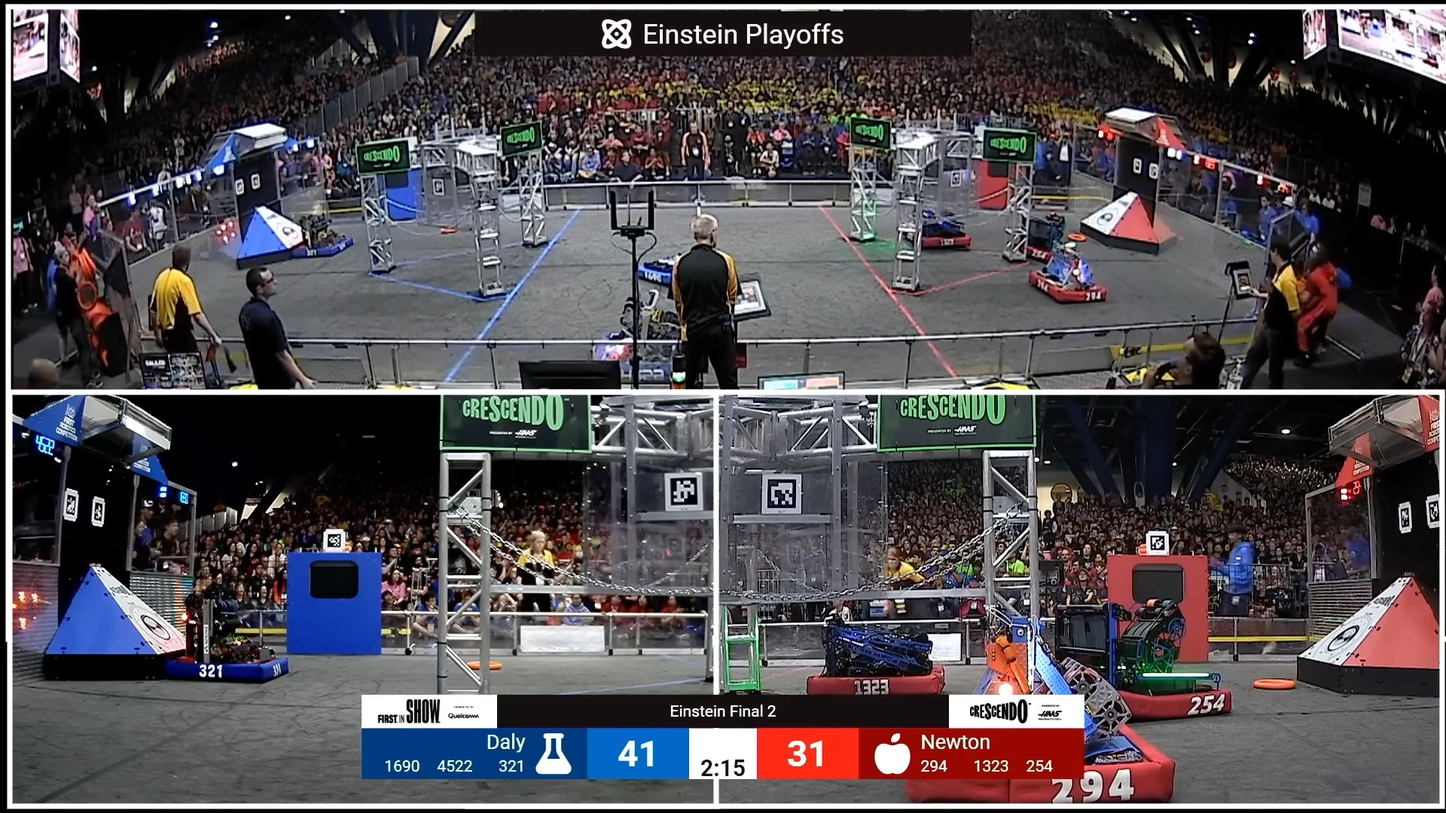bumpers: (894, 711, 1179, 805), (1088, 672, 1236, 729), (157, 652, 296, 690), (801, 659, 954, 693), (1022, 263, 1114, 308), (895, 220, 977, 255), (636, 258, 709, 289), (290, 236, 361, 259), (1008, 240, 1076, 263)
